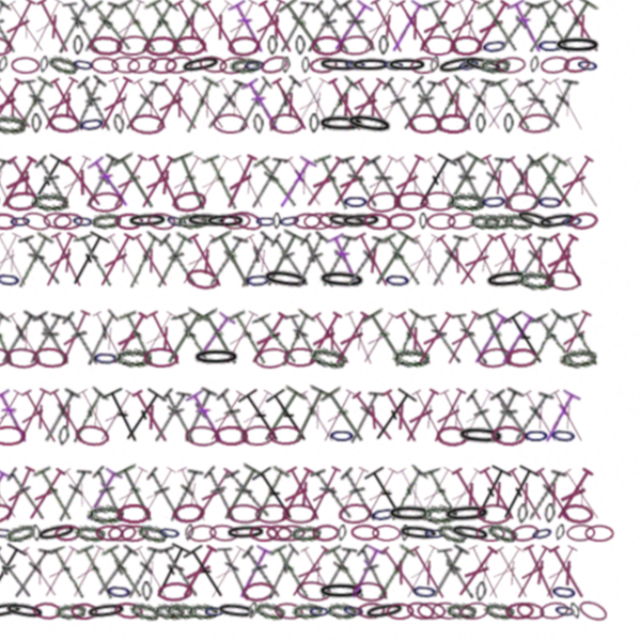chain: (358, 137, 407, 163), (280, 283, 329, 308), (517, 227, 559, 254), (489, 284, 537, 307), (333, 285, 381, 307), (463, 431, 511, 453), (450, 504, 498, 526), (444, 83, 486, 107), (468, 83, 510, 107), (204, 83, 246, 106), (69, 521, 111, 544), (19, 594, 61, 617), (325, 356, 363, 381), (333, 140, 380, 160), (398, 505, 445, 525), (14, 502, 50, 528), (538, 230, 580, 252), (456, 522, 498, 544), (39, 595, 81, 617), (376, 595, 418, 617), (554, 67, 601, 86), (216, 359, 263, 378), (333, 578, 380, 597), (209, 283, 244, 308), (576, 593, 608, 619), (341, 231, 382, 251), (408, 523, 449, 543), (116, 596, 157, 616), (238, 596, 279, 616), (15, 65, 49, 89), (313, 576, 348, 599), (560, 358, 596, 380), (197, 211, 231, 234), (106, 430, 140, 453), (274, 358, 309, 380), (40, 521, 72, 545), (444, 521, 476, 545), (379, 212, 413, 234), (483, 358, 517, 380), (262, 577, 296, 599), (366, 577, 400, 599), (80, 83, 112, 106), (491, 521, 523, 544), (548, 285, 581, 307), (561, 504, 594, 526), (334, 86, 374, 104), (353, 66, 387, 87), (522, 139, 556, 160), (67, 358, 101, 379), (253, 229, 284, 252), (27, 140, 62, 160), (521, 286, 556, 306), (118, 505, 153, 525), (430, 505, 465, 525), (145, 66, 178, 87), (288, 139, 321, 160), (41, 212, 74, 233), (262, 431, 295, 452), (496, 431, 529, 452), (353, 504, 386, 525), (279, 83, 309, 106), (164, 522, 195, 544), (157, 595, 188, 617), (119, 213, 153, 233), (155, 232, 195, 249), (210, 232, 250, 249), (355, 232, 395, 249), (41, 359, 75, 379), (275, 505, 309, 525), (247, 524, 287, 541), (81, 139, 113, 160), (198, 504, 230, 525), (66, 213, 101, 232), (456, 213, 491, 232), (144, 359, 179, 378), (404, 359, 439, 378), (119, 67, 152, 87), (171, 67, 204, 87), (158, 140, 191, 160), (509, 213, 542, 233), (56, 230, 86, 252), (210, 432, 243, 452), (249, 505, 282, 525), (301, 505, 334, 525), (483, 505, 516, 525), (184, 578, 217, 598), (274, 595, 305, 616), (364, 87, 404, 103), (398, 87, 438, 103), (228, 233, 268, 249), (431, 67, 464, 86), (236, 140, 269, 159), (405, 213, 438, 232), (431, 213, 464, 232), (15, 359, 48, 378), (171, 359, 204, 378), (28, 432, 61, 451), (288, 432, 321, 451), (250, 67, 281, 87), (510, 359, 541, 379), (445, 432, 476, 452), (486, 66, 514, 88), (109, 139, 137, 161), (382, 504, 410, 526), (551, 577, 579, 599), (190, 84, 219, 105), (416, 595, 445, 616), (198, 67, 230, 86), (419, 140, 451, 159), (445, 140, 477, 159), (302, 359, 334, 378), (237, 432, 269, 451), (146, 505, 178, 524), (328, 67, 359, 86), (458, 67, 489, 86), (241, 85, 270, 105), (514, 523, 543, 543), (519, 596, 548, 616), (155, 85, 185, 104), (121, 231, 151, 250), (489, 596, 519, 615), (486, 212, 513, 233), (31, 285, 58, 306), (551, 431, 578, 452), (135, 577, 162, 598), (421, 577, 448, 598), (222, 85, 251, 104), (542, 85, 571, 104), (334, 231, 363, 250), (467, 596, 496, 615), (541, 596, 570, 615), (251, 86, 281, 104), (485, 86, 515, 104), (488, 232, 518, 250), (507, 232, 537, 250), (265, 286, 292, 306), (106, 524, 136, 542), (308, 524, 338, 542), (88, 597, 118, 615), (180, 597, 210, 615), (563, 85, 591, 104), (455, 231, 483, 250), (569, 231, 597, 250), (137, 523, 165, 542), (143, 596, 171, 615), (441, 596, 469, 615), (501, 86, 530, 104), (86, 232, 115, 250), (232, 524, 261, 542), (539, 213, 565, 233), (396, 286, 422, 306), (123, 359, 149, 379), (191, 597, 221, 614), (121, 86, 149, 104), (175, 86, 203, 104), (326, 86, 354, 104), (420, 86, 448, 104), (26, 232, 54, 250), (174, 232, 202, 250), (244, 232, 272, 250), (376, 232, 404, 250), (398, 232, 426, 250), (149, 524, 177, 542), (212, 524, 240, 542), (295, 524, 323, 542), (293, 597, 321, 615), (190, 231, 215, 251), (532, 523, 557, 543), (539, 67, 565, 86), (357, 213, 383, 232), (344, 432, 370, 451), (526, 432, 552, 451), (202, 232, 231, 249), (310, 597, 339, 614), (342, 597, 371, 614), (454, 597, 483, 614), (87, 524, 114, 542), (285, 524, 312, 542), (67, 597, 95, 614), (509, 597, 537, 614), (476, 233, 505, 249), (212, 598, 241, 614), (141, 86, 168, 103), (77, 232, 104, 249), (365, 524, 392, 541), (567, 524, 594, 541), (371, 597, 398, 614), (427, 597, 454, 614), (103, 85, 127, 104), (464, 85, 488, 104), (296, 231, 320, 250), (184, 523, 208, 542), (356, 596, 380, 615), (554, 596, 578, 615), (321, 233, 349, 249), (436, 233, 464, 249), (482, 525, 510, 541), (584, 525, 612, 541), (329, 524, 355, 541), (47, 87, 74, 103), (575, 86, 599, 104), (144, 233, 171, 249), (311, 233, 338, 249), (126, 525, 153, 541), (270, 525, 297, 541), (385, 525, 412, 541), (398, 598, 425, 614), (103, 598, 129, 614), (264, 86, 287, 104), (394, 86, 417, 104), (103, 232, 126, 250), (561, 232, 584, 250), (358, 86, 381, 103), (28, 524, 51, 541), (45, 233, 67, 249), (275, 233, 297, 249), (433, 525, 455, 541), (227, 598, 249, 614), (325, 598, 347, 614), (142, 140, 155, 160), (90, 432, 103, 452), (273, 140, 285, 160), (520, 505, 532, 525), (481, 578, 493, 598), (569, 597, 582, 614), (26, 213, 37, 232), (546, 505, 557, 524), (169, 578, 180, 597), (555, 524, 567, 541), (105, 67, 115, 86), (287, 67, 297, 86), (313, 67, 323, 86), (391, 67, 401, 86), (66, 140, 76, 159), (326, 140, 336, 159), (482, 140, 492, 159), (508, 140, 518, 159), (34, 86, 45, 103), (438, 86, 449, 103), (268, 597, 279, 614), (73, 86, 83, 103), (532, 86, 542, 103), (209, 524, 219, 541), (66, 525, 76, 541), (352, 525, 362, 541), (300, 87, 309, 103), (319, 87, 327, 103), (292, 233, 300, 249), (429, 233, 437, 249), (412, 525, 420, 541)
double: (296, 30, 347, 88), (531, 175, 581, 234), (336, 394, 386, 453), (549, 29, 598, 88), (141, 175, 190, 234), (380, 248, 429, 307), (185, 321, 234, 380), (375, 321, 424, 380), (276, 394, 325, 453), (146, 395, 195, 453), (258, 395, 307, 453), (284, 395, 333, 453), (380, 395, 429, 453), (271, 468, 320, 526), (446, 175, 494, 234), (220, 321, 268, 380), (238, 467, 286, 526), (56, 176, 104, 234), (506, 322, 554, 380), (376, 468, 424, 526), (207, 541, 255, 599), (420, 175, 467, 234), (233, 248, 280, 307), (17, 540, 64, 599), (96, 248, 142, 307), (278, 248, 324, 307), (143, 467, 189, 526), (116, 31, 164, 87), (272, 323, 320, 379), (532, 323, 580, 379), (304, 394, 349, 453), (473, 467, 518, 526), (499, 467, 544, 526), (174, 540, 219, 599), (25, 104, 73, 159), (90, 177, 138, 232), (441, 250, 489, 305), (482, 321, 526, 381), (524, 31, 571, 87), (272, 177, 319, 233), (161, 30, 207, 87), (382, 541, 428, 598), (131, 394, 175, 453), (212, 31, 259, 86), (298, 177, 345, 232), (303, 542, 350, 597), (389, 542, 436, 597), (459, 542, 506, 597), (39, 31, 85, 87), (182, 104, 228, 160), (208, 104, 254, 160), (330, 104, 376, 160), (356, 104, 402, 160), (460, 250, 506, 306), (325, 323, 371, 379), (559, 469, 605, 525), (143, 30, 188, 87), (187, 30, 232, 87), (481, 30, 526, 87), (44, 103, 89, 160), (494, 103, 539, 160), (525, 176, 570, 233), (390, 249, 435, 306), (395, 468, 440, 525), (130, 541, 175, 598), (338, 541, 383, 598), (363, 397, 410, 451), (196, 175, 239, 234), (117, 177, 163, 232), (317, 177, 363, 232), (213, 323, 259, 378), (494, 396, 540, 451), (13, 469, 59, 524), (122, 542, 168, 597), (364, 104, 409, 160), (468, 104, 513, 160), (39, 323, 84, 379), (226, 396, 271, 452), (57, 469, 102, 525), (533, 469, 578, 525), (551, 469, 596, 525), (6, 30, 50, 87), (170, 30, 214, 87), (157, 103, 201, 160), (235, 103, 279, 160), (435, 103, 479, 160), (214, 176, 258, 233), (45, 249, 89, 306), (131, 249, 175, 306), (175, 249, 219, 306), (196, 322, 240, 379), (526, 322, 570, 379), (19, 395, 63, 452), (97, 395, 141, 452), (123, 395, 167, 452), (162, 468, 206, 525), (266, 468, 310, 525), (287, 541, 331, 598), (560, 322, 603, 380), (343, 31, 388, 86), (351, 31, 396, 86), (486, 104, 531, 159), (343, 177, 388, 232), (403, 177, 448, 232), (507, 177, 552, 232), (200, 250, 245, 305), (91, 469, 136, 524), (52, 542, 97, 597), (370, 31, 414, 87), (422, 31, 466, 87), (474, 31, 518, 87), (560, 31, 604, 87), (19, 104, 63, 160), (287, 104, 331, 160), (513, 104, 557, 160), (40, 177, 84, 233), (162, 177, 206, 233), (430, 177, 474, 233), (552, 176, 596, 232), (560, 177, 604, 233), (266, 323, 310, 379), (422, 323, 466, 379), (474, 323, 518, 379), (521, 396, 565, 452), (214, 469, 258, 525), (448, 469, 492, 525), (487, 542, 531, 598), (430, 30, 473, 87), (534, 30, 577, 87), (71, 103, 114, 160), (136, 176, 179, 233), (105, 249, 148, 306), (162, 322, 205, 379), (248, 322, 291, 379), (79, 395, 122, 452), (391, 395, 434, 452), (66, 468, 109, 525), (422, 468, 465, 525), (430, 468, 473, 525), (482, 468, 525, 525), (71, 541, 114, 598), (79, 541, 122, 598), (201, 541, 244, 598), (202, 103, 244, 161), (150, 249, 192, 307), (7, 322, 49, 380), (106, 541, 148, 599), (196, 31, 239, 87), (222, 31, 265, 87), (404, 31, 447, 87), (261, 104, 304, 160), (305, 104, 348, 160), (32, 177, 75, 233), (292, 177, 335, 233), (378, 177, 421, 233), (157, 250, 200, 306), (409, 250, 452, 306), (539, 250, 582, 306), (32, 323, 75, 379), (66, 323, 109, 379), (136, 323, 179, 379), (344, 323, 387, 379), (370, 323, 413, 379), (404, 323, 447, 379), (500, 323, 543, 379), (157, 396, 200, 452), (209, 396, 252, 452), (253, 396, 296, 452), (313, 396, 356, 452), (456, 469, 499, 525), (508, 469, 551, 525), (227, 542, 270, 598), (417, 542, 460, 598), (435, 542, 478, 598), (547, 542, 590, 598), (176, 103, 218, 160), (189, 176, 231, 233), (241, 322, 283, 379), (410, 395, 452, 452), (548, 395, 590, 452), (137, 468, 179, 525), (301, 468, 343, 525), (540, 541, 582, 598), (293, 322, 334, 380), (275, 31, 317, 87), (397, 31, 439, 87), (80, 104, 122, 160), (340, 104, 382, 160), (384, 104, 426, 160), (124, 250, 166, 306), (262, 250, 304, 306), (418, 250, 460, 306), (488, 250, 530, 306), (522, 250, 564, 306), (319, 323, 361, 379), (449, 323, 491, 379), (54, 396, 96, 452), (72, 396, 114, 452), (462, 396, 504, 452), (540, 396, 582, 452), (7, 469, 49, 525), (111, 469, 153, 525), (371, 469, 413, 525), (405, 469, 447, 525), (158, 542, 200, 598), (314, 542, 356, 598), (496, 542, 538, 598), (514, 542, 556, 598), (247, 471, 292, 523), (26, 544, 71, 596), (33, 30, 74, 87), (67, 30, 108, 87), (267, 30, 308, 87), (449, 30, 490, 87), (124, 103, 165, 160), (314, 103, 355, 160), (111, 176, 152, 233), (371, 176, 412, 233), (397, 176, 438, 233), (457, 176, 498, 233), (20, 249, 61, 306), (28, 249, 69, 306), (366, 249, 407, 306), (548, 249, 589, 306), (119, 322, 160, 379), (28, 395, 69, 452), (106, 395, 147, 452), (332, 395, 373, 452), (418, 395, 459, 452), (436, 395, 477, 452), (444, 395, 485, 452), (345, 468, 386, 525), (98, 541, 139, 598), (254, 541, 295, 598), (410, 541, 451, 598), (287, 251, 331, 304), (40, 470, 84, 523), (326, 32, 369, 86), (224, 176, 264, 234), (328, 176, 368, 234), (146, 322, 186, 380), (398, 322, 438, 380), (249, 31, 290, 87), (444, 104, 485, 160), (548, 104, 589, 160), (210, 250, 251, 306), (293, 469, 334, 525), (60, 30, 100, 87), (242, 30, 282, 87), (380, 30, 420, 87), (510, 30, 550, 87), (16, 176, 56, 233), (86, 176, 126, 233), (172, 176, 212, 233), (242, 176, 282, 233), (250, 176, 290, 233), (484, 176, 524, 233), (73, 249, 113, 306), (497, 249, 537, 306), (172, 322, 212, 379), (554, 322, 594, 379), (47, 395, 87, 452), (320, 468, 360, 525), (359, 541, 399, 598), (471, 541, 511, 598), (523, 541, 563, 598), (500, 32, 543, 85), (227, 105, 270, 158), (6, 178, 49, 231), (183, 251, 226, 304), (261, 543, 304, 596), (15, 32, 57, 86), (111, 32, 153, 86), (150, 105, 192, 159), (410, 105, 452, 159), (522, 105, 564, 159), (501, 178, 543, 232), (54, 251, 96, 305), (228, 251, 270, 305), (358, 251, 400, 305), (514, 397, 556, 451), (327, 470, 369, 524), (46, 543, 88, 597), (198, 468, 237, 526), (138, 30, 177, 87), (458, 30, 497, 87), (81, 249, 120, 306), (341, 249, 380, 306), (471, 249, 510, 306), (203, 395, 242, 452), (489, 395, 528, 452), (392, 105, 433, 159), (67, 178, 108, 232), (514, 251, 555, 305), (93, 324, 134, 378), (470, 397, 511, 451), (171, 470, 212, 524), (353, 470, 394, 524), (527, 470, 568, 524), (17, 322, 55, 380), (281, 104, 321, 159), (60, 323, 100, 378), (177, 396, 217, 451), (185, 396, 225, 451), (185, 542, 225, 597), (319, 32, 360, 85), (431, 324, 472, 377), (87, 322, 125, 379), (355, 322, 393, 379), (35, 468, 73, 525), (315, 251, 355, 305), (134, 103, 171, 161), (99, 104, 138, 159), (107, 104, 146, 159), (268, 177, 307, 232), (354, 177, 393, 232), (255, 250, 294, 305), (307, 250, 346, 305), (437, 250, 476, 305), (237, 396, 276, 451), (333, 542, 372, 597), (86, 32, 125, 86), (255, 105, 294, 159), (295, 31, 333, 86), (464, 104, 502, 159), (477, 177, 515, 232), (334, 250, 372, 305), (459, 323, 497, 378), (225, 469, 263, 524), (152, 542, 190, 597), (368, 542, 406, 597), (360, 396, 397, 452), (87, 469, 124, 525), (191, 469, 228, 525), (95, 32, 133, 86), (303, 324, 341, 378), (446, 543, 484, 597), (56, 104, 93, 159), (420, 104, 457, 159), (113, 323, 150, 378), (121, 469, 158, 524), (282, 542, 319, 597), (543, 104, 579, 160), (240, 542, 274, 598)
